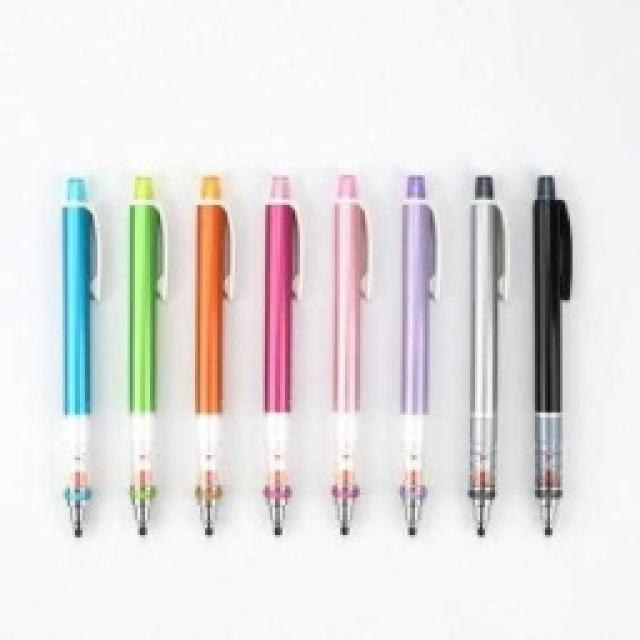pencil: (50, 160, 580, 545)
